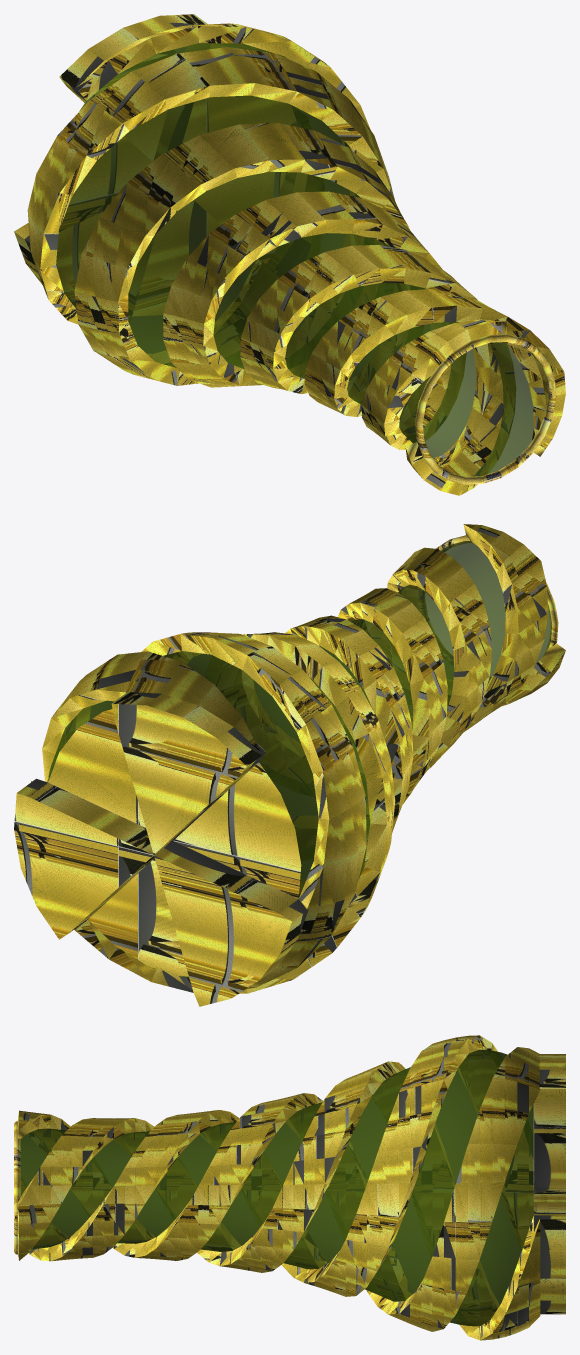
The model's file is model_align.obj.
3 views of the same model, one above another, from view 1: azimuth 30°, elevation 25°; view 2: azimuth 150°, elevation 25°; view 3: azimuth 270°, elevation 25° (orthographic). The views are drawn at different scales.
Parts seen in each view (by area): view 1: mesh1_mesh1-geometry, mesh2_mesh2-geometry; view 2: mesh1_mesh1-geometry, mesh2_mesh2-geometry; view 3: mesh1_mesh1-geometry, mesh2_mesh2-geometry.
Boxes of the visible parts, x1,y1,x2,y2 form: mesh1_mesh1-geometry: [14, 14, 565, 495]; mesh2_mesh2-geometry: [415, 334, 556, 484]; mesh1_mesh1-geometry: [14, 524, 565, 1006]; mesh2_mesh2-geometry: [417, 535, 558, 680]; mesh1_mesh1-geometry: [17, 1035, 565, 1340]; mesh2_mesh2-geometry: [14, 1121, 20, 1254].
Bounding box in the file's own units: 0.1282 × 0.1273 × 0.2321.
Materials: 3 (1 with a texture image).
